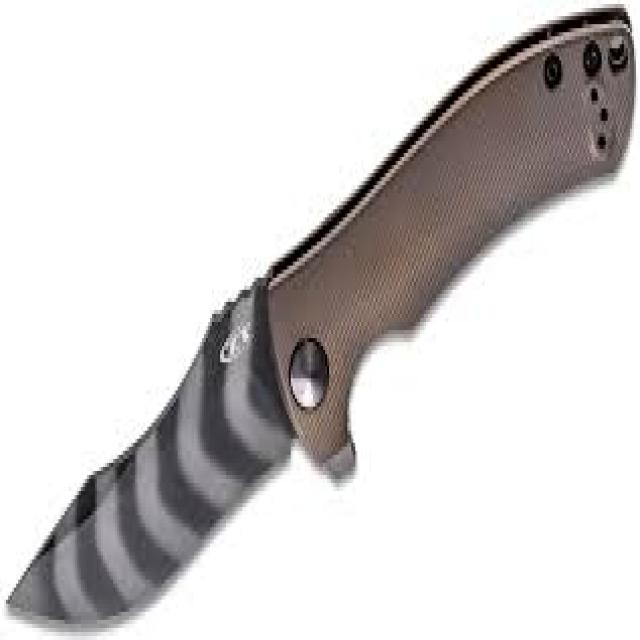knives: (2, 0, 636, 632)
